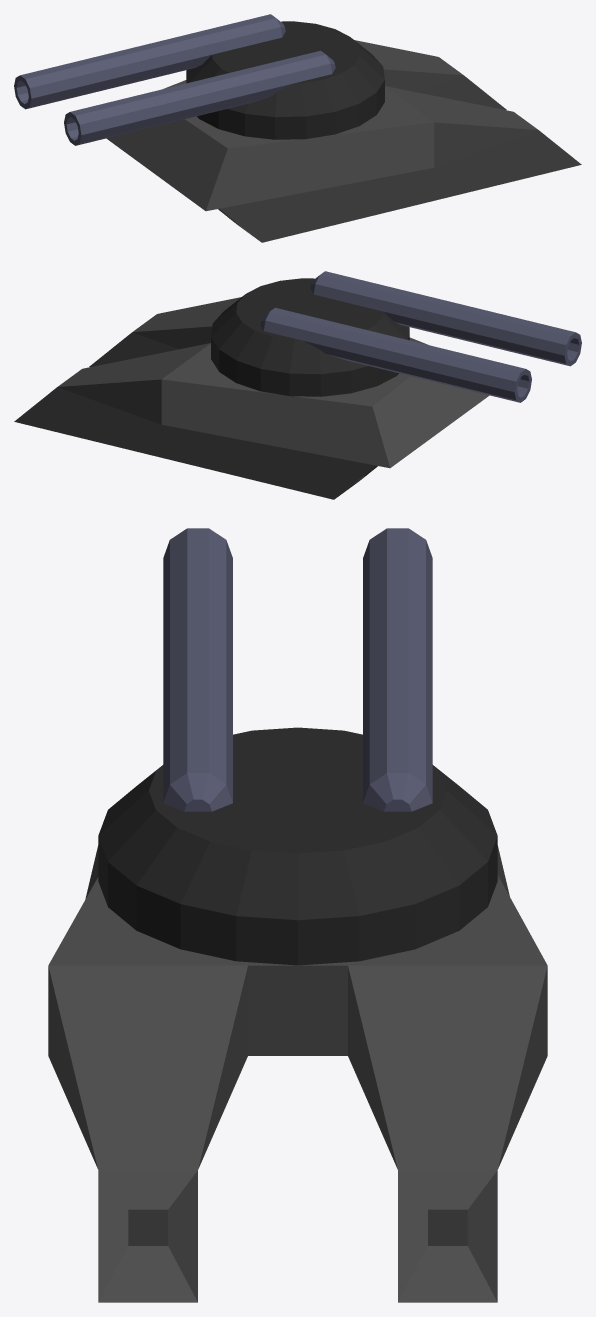
File: simpleTank.gltf
The picture shows the model from 3 angles, top to bottom: view 1: azimuth 30°, elevation 25°; view 2: azimuth 150°, elevation 25°; view 3: azimuth 270°, elevation 25°; orthographic projection. The views are drawn at different scales.
Visible parts, largest first — view 1: mainBase_Cube.002, turretBase_Cylinder, rightBase_Cube, turretLaufRight_Cylinder.001, turretLaufLeft_Cylinder.002, rightSlope_Cube.004, leftSlope_Cube.003, leftBase_Cube.001; view 2: mainBase_Cube.002, turretBase_Cylinder, leftBase_Cube.001, turretLaufLeft_Cylinder.002, turretLaufRight_Cylinder.001, leftSlope_Cube.003, rightSlope_Cube.004, rightBase_Cube; view 3: turretBase_Cylinder, leftSlope_Cube.003, rightSlope_Cube.004, mainBase_Cube.002, turretLaufRight_Cylinder.001, turretLaufLeft_Cylinder.002, rightBase_Cube, leftBase_Cube.001.
Boxes of the visible parts, x1,y1,x2,y2 form: mainBase_Cube.002: (106, 80, 434, 211); turretBase_Cylinder: (186, 21, 384, 139); rightBase_Cube: (218, 130, 581, 242); turretLaufRight_Cylinder.001: (64, 50, 335, 145); turretLaufLeft_Cylinder.002: (14, 14, 285, 109); rightSlope_Cube.004: (385, 86, 538, 167); leftSlope_Cube.003: (354, 40, 463, 92); leftBase_Cube.001: (417, 75, 506, 109); mainBase_Cube.002: (161, 337, 489, 468); turretBase_Cylinder: (211, 278, 409, 396); leftBase_Cube.001: (14, 387, 377, 499); turretLaufLeft_Cylinder.002: (260, 307, 531, 402); turretLaufRight_Cylinder.001: (310, 271, 581, 366); leftSlope_Cube.003: (57, 343, 210, 424); rightSlope_Cube.004: (132, 297, 241, 349); rightBase_Cube: (89, 332, 178, 366); turretBase_Cylinder: (98, 727, 497, 965); leftSlope_Cube.003: (348, 965, 547, 1169); rightSlope_Cube.004: (48, 965, 247, 1169); mainBase_Cube.002: (48, 845, 547, 1055); turretLaufRight_Cylinder.001: (163, 528, 232, 811); turretLaufLeft_Cylinder.002: (363, 528, 432, 811); rightBase_Cube: (98, 1170, 197, 1302); leftBase_Cube.001: (398, 1170, 497, 1302).
Size of the model in its own units: 11.2 by 3.33 by 5.
